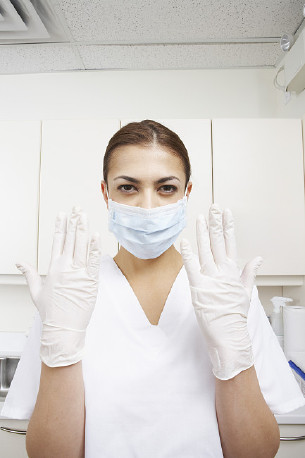face_mask: (107, 149, 185, 259)
